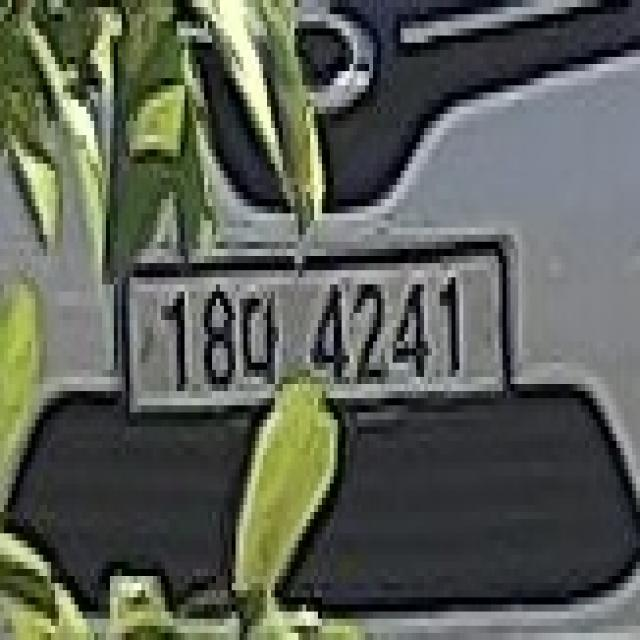1: (153, 278, 196, 406), (432, 263, 471, 391)
2: (353, 270, 389, 384)
4: (306, 277, 349, 398), (389, 277, 432, 391)
8: (200, 277, 236, 398)
da: (240, 284, 286, 398)
license_plate: (110, 227, 518, 441)
